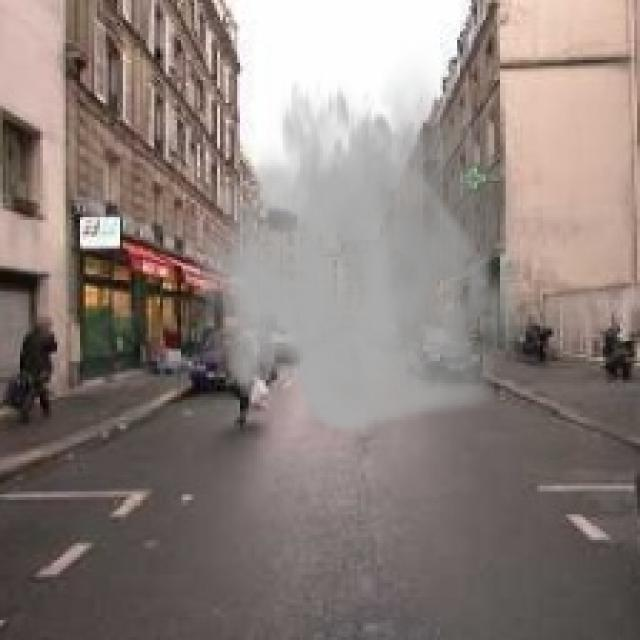Smoke: (195, 43, 540, 440)
